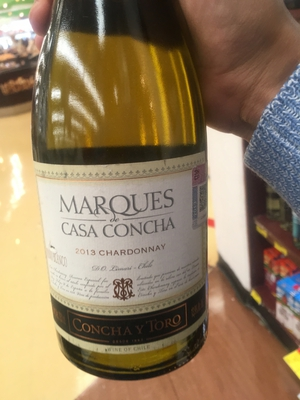marques de casa concha chardonnay: (31, 16, 214, 380)
